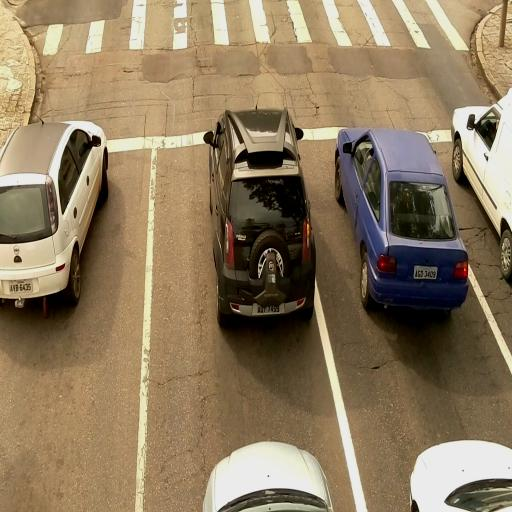car: (334, 124, 469, 313), (206, 104, 312, 328), (1, 118, 110, 311), (450, 85, 512, 279), (202, 441, 335, 510), (408, 440, 512, 511)
